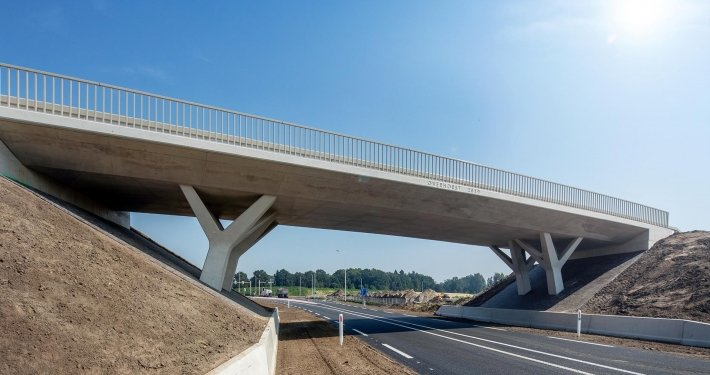bridge: (1, 61, 671, 259)
